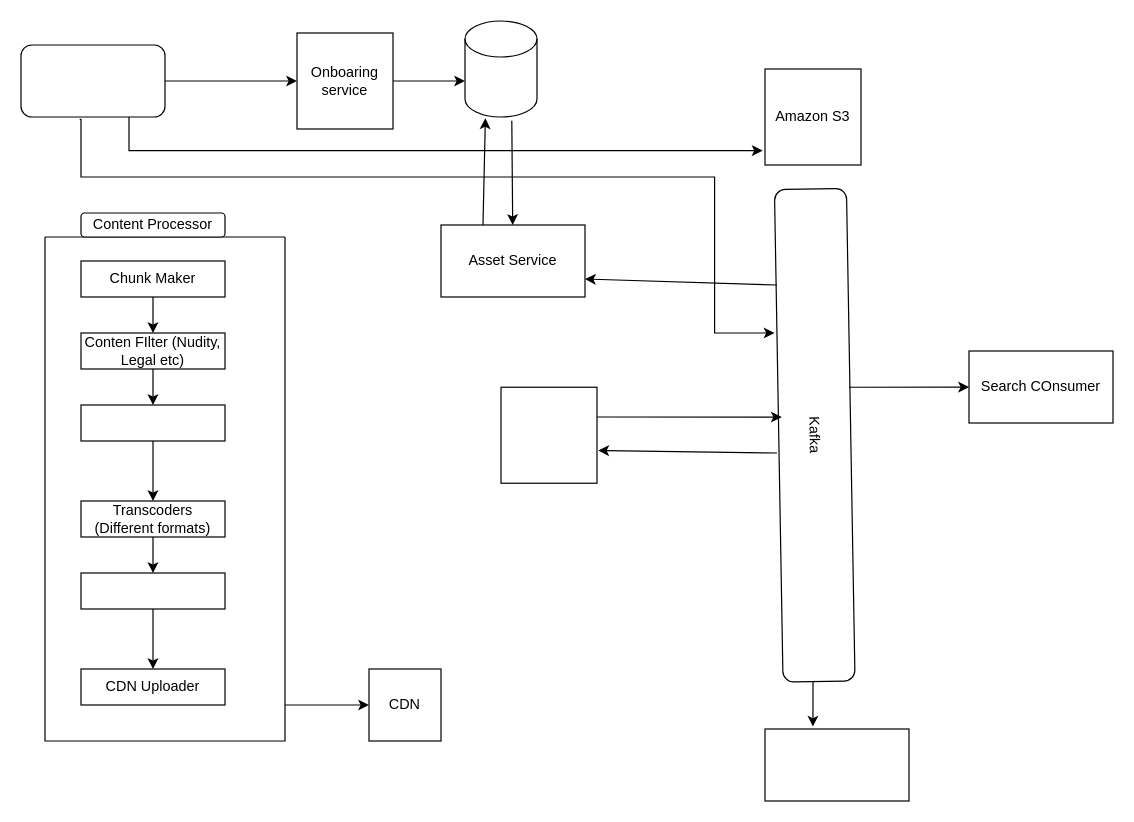
Some shapes in this 1134 by 822 pixel diagram are drawn without their labels. Here are the shapes that lost their labels. From the top down, the centre of each, then its label:
At point 92,80: "Content onboarding".
At point 500,68: "Cassandra".
At point 152,422: "Content tagging(classifiers, thubanail)".
At point 548,434: "Spark streaming".
At point 152,590: "Quality Converter (various Bandwidth)".
At point 836,764: "Notification Service".
